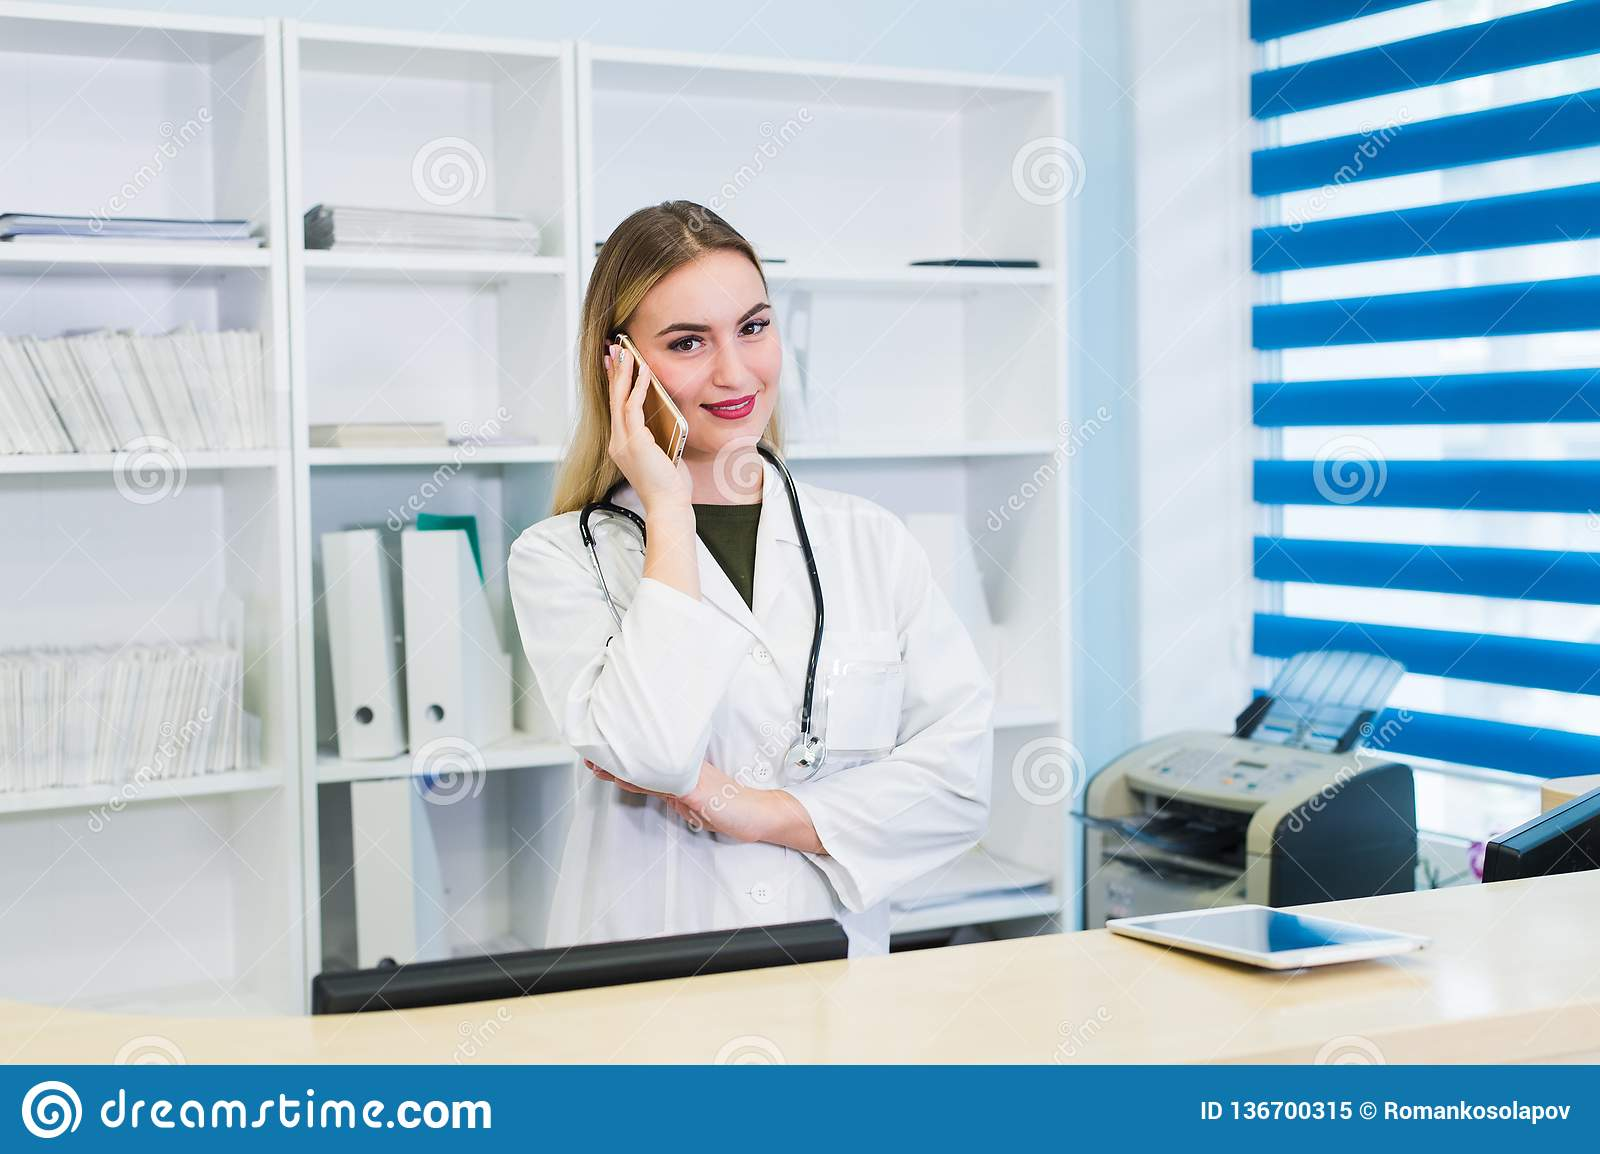phone: (611, 334, 694, 484)
talk: (602, 303, 785, 529)
